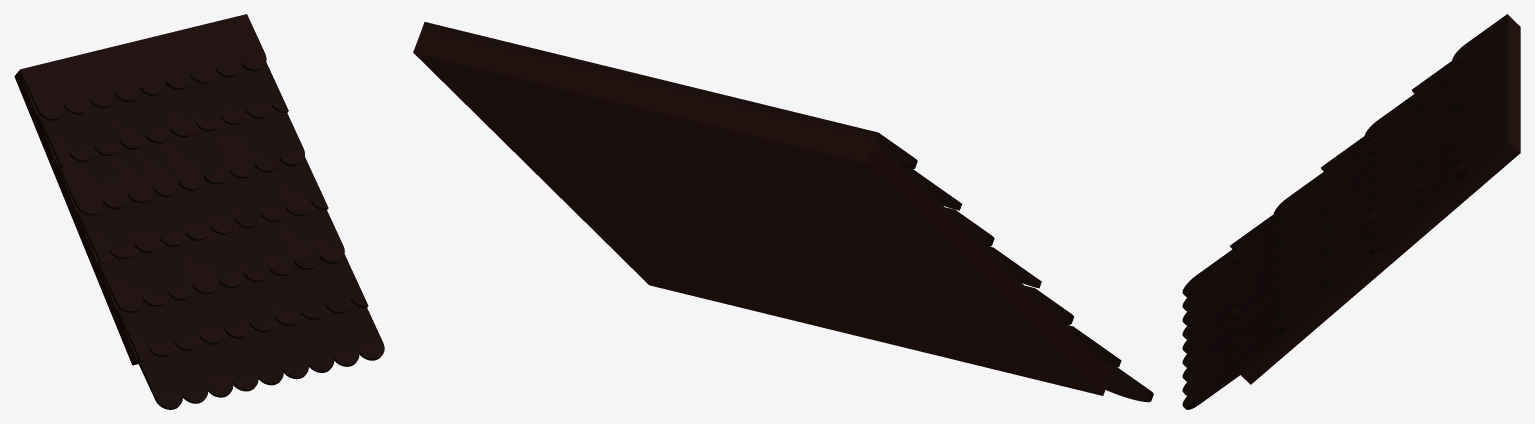
Rendered from Roof_Side.fbx.
The picture shows the model from 3 angles, left to right: view 1: azimuth 30°, elevation 25°; view 2: azimuth 150°, elevation 25°; view 3: azimuth 270°, elevation 25°; orthographic projection. The views are drawn at different scales.
Parts seen in each view (by area): view 1: Roof_Side; view 2: Roof_Side; view 3: Roof_Side.
Part boxes in pixels (left/top/right/bottom): Roof_Side: left=14, top=14, right=384, bottom=409; Roof_Side: left=413, top=22, right=1153, bottom=402; Roof_Side: left=1182, top=14, right=1520, bottom=409.
Size of the model in its own units: 100 by 101 by 113.
